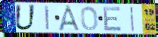A: (58, 5, 83, 33)
E: (103, 6, 123, 32)
I: (44, 5, 50, 31), (130, 6, 135, 33)
O: (80, 6, 99, 31)
U: (14, 4, 37, 32)
